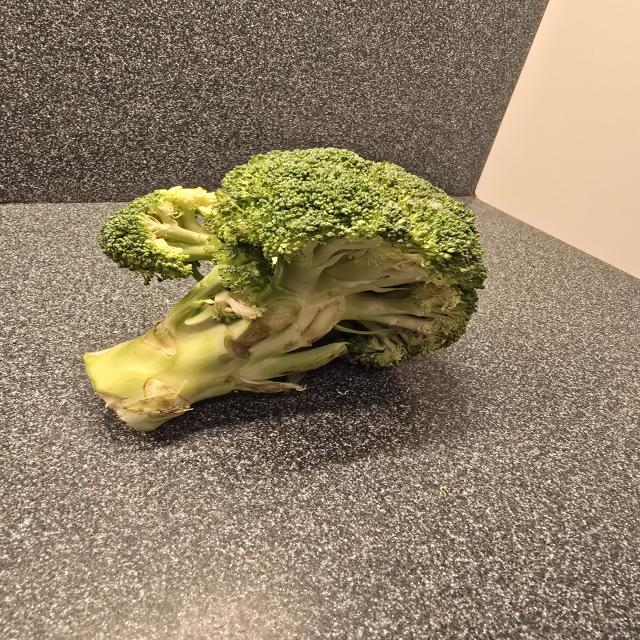Broccoli: (85, 149, 485, 430)
